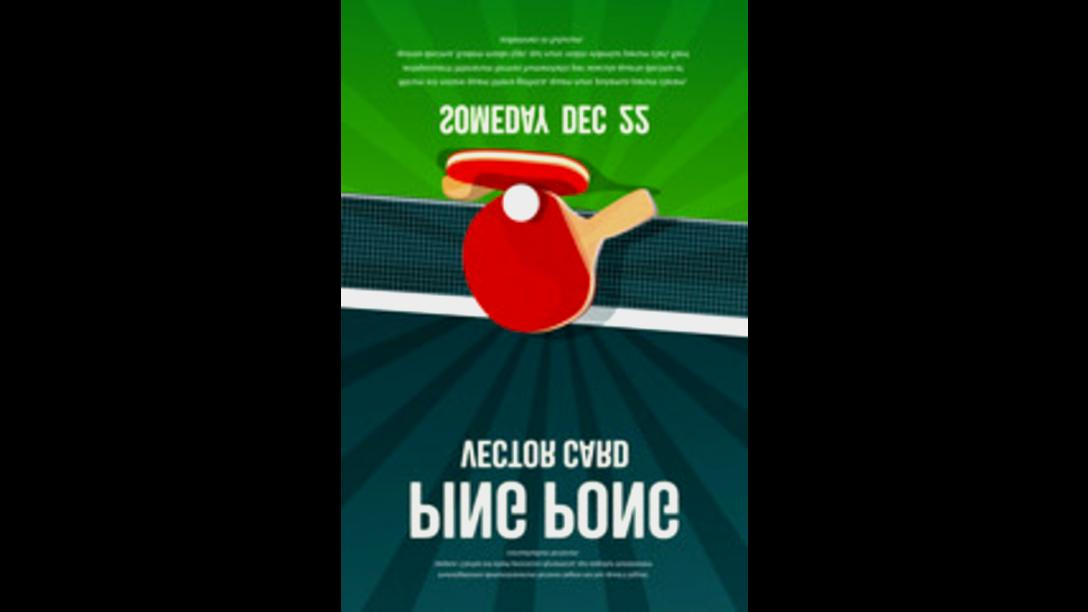Table-Tennis-Ball: (504, 184, 538, 220)
